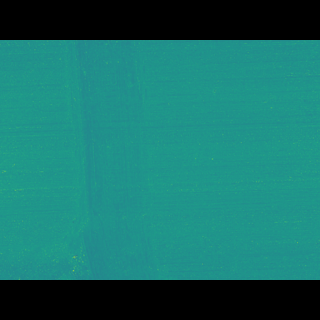Loch: (55, 68, 166, 250)
